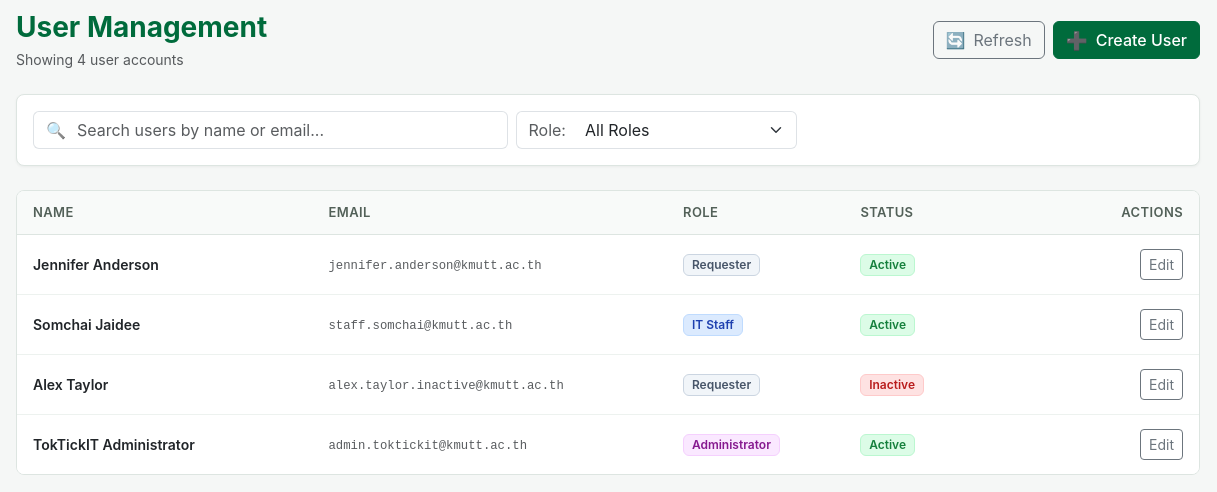
Scenario: Administrator User Management Component (UI-09, UI-10) › UI-09: Screen rendering, filtering, creation and error states › filters user table by role selector dropdown
This screenshot has width=1217, height=492.
Expected: the text "Jennifer Anderson" is shown, [33, 256, 159, 273]
Select "Administrator" in the dropdown with test id "role-filter-select": (687, 130) [577, 111, 797, 149]
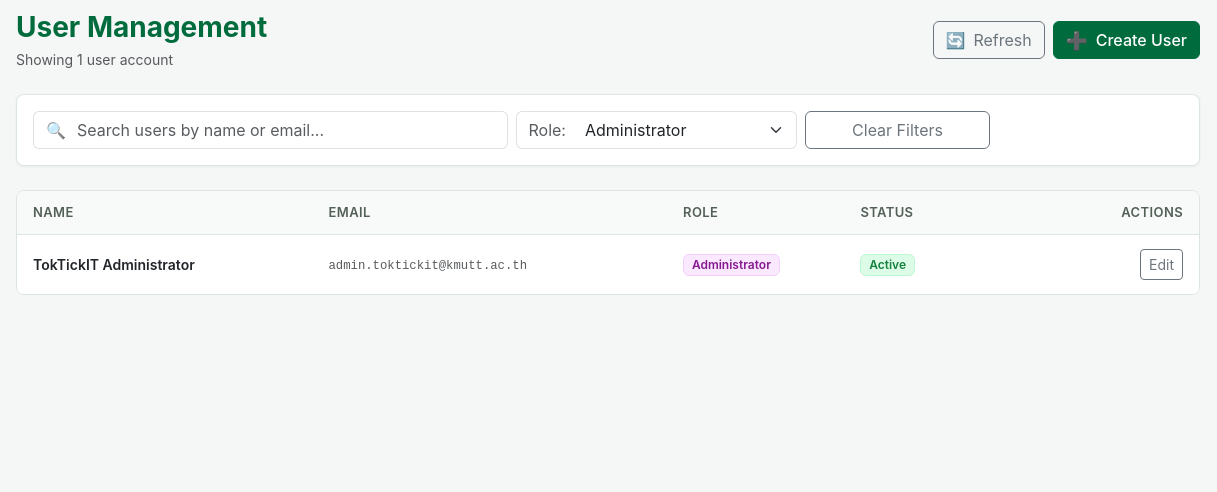
Expected: the text with test id "user-name-9" reads "TokTickIT Administrator", [33, 256, 195, 273]
Expected: the text with test id "user-name-1" is gone
Expected: the text with test id "user-name-5" is gone
